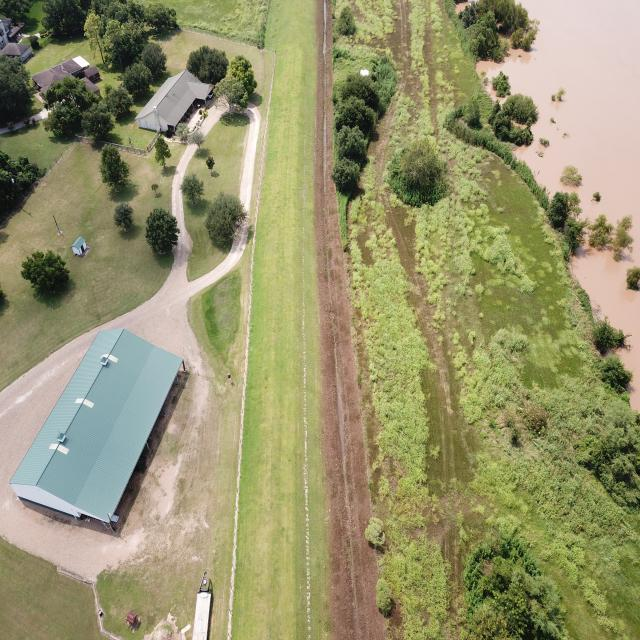fire: (477, 0, 640, 410)
